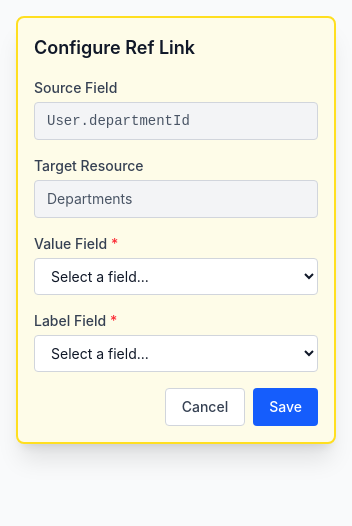
Test: RefLinkConfigForm › should clear validation error when user selects a labelField
The width and height of the screenshot is (352, 526).
Click the button with test id "save-button" at {"x": 286, "y": 407}, box [253,388,318,426]
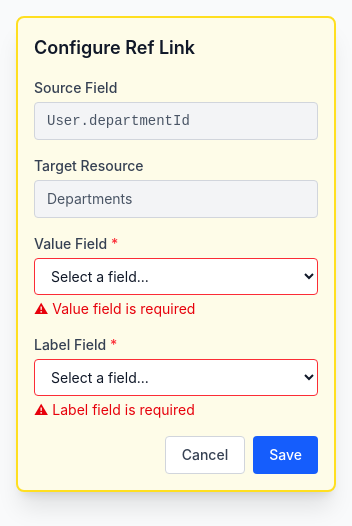
Check: the message "⚠ Label field is required" is shown, box [34,401,195,418]
Select "Department.name" in the dropdown with test id "label-field-select" at {"x": 176, "y": 378}, box [34,359,318,396]
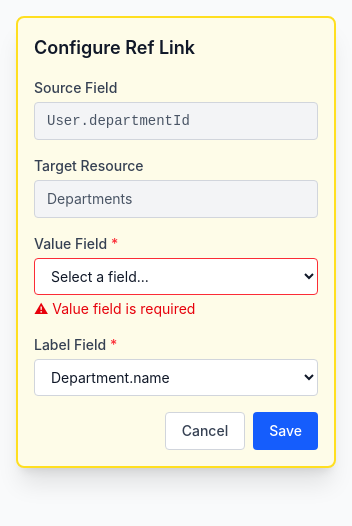
Check: the message with test id "label-field-error" is gone
